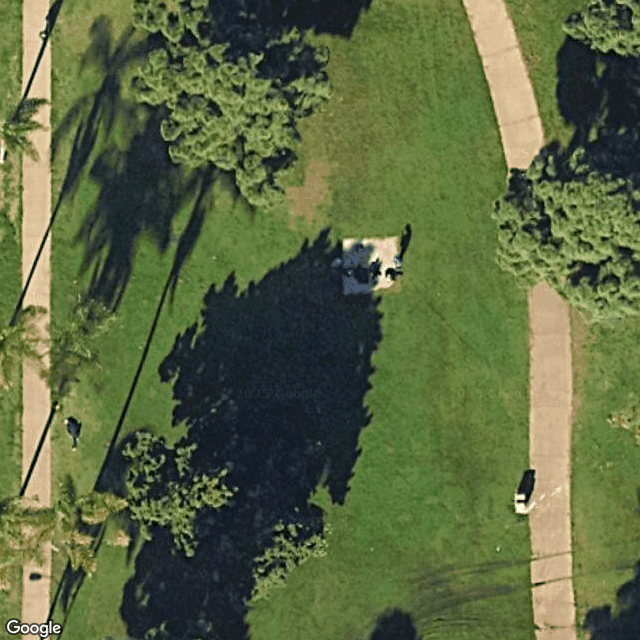palm: (38, 291, 133, 401), (39, 470, 130, 574)
